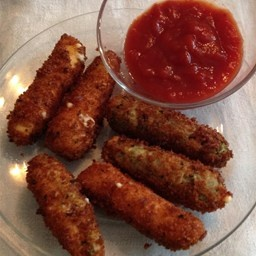background: (2, 13, 93, 102), (49, 0, 98, 42)
